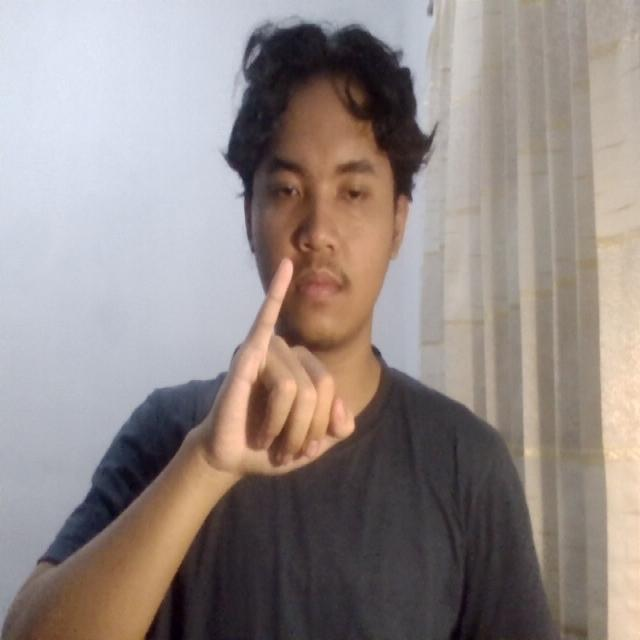Hello: (171, 238, 378, 502)
